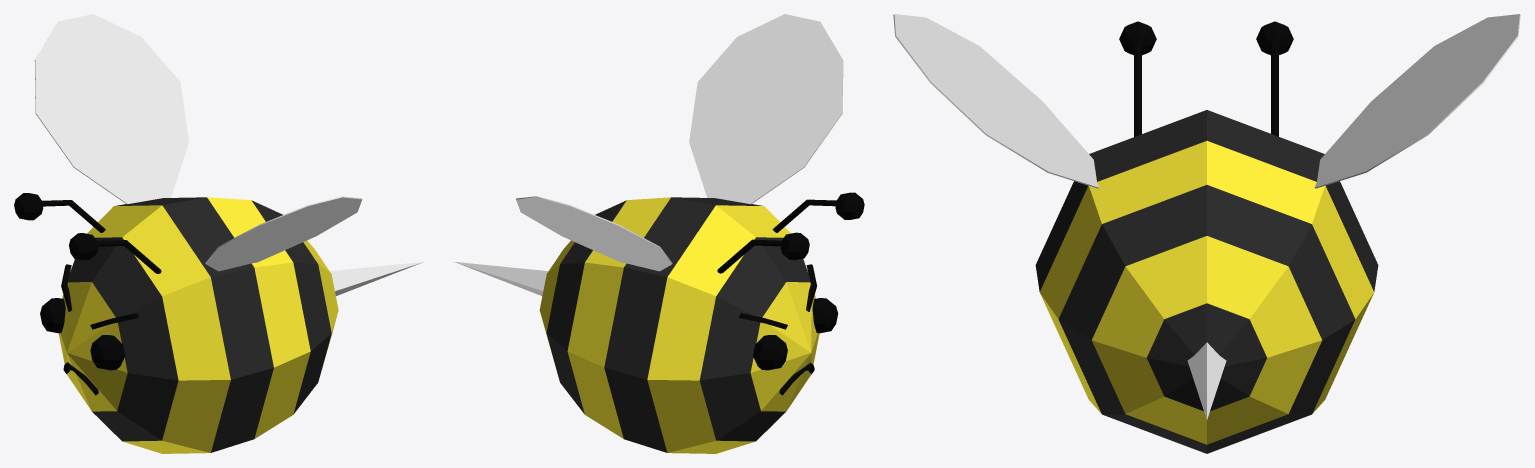
File: bee.fbx
The picture shows the model from 3 angles, left to right: view 1: azimuth 30°, elevation 25°; view 2: azimuth 150°, elevation 25°; view 3: azimuth 270°, elevation 25°; orthographic projection. The views are drawn at different scales.
Parts seen in each view (by area): view 1: bee; view 2: bee; view 3: bee.
Part boxes in pixels (x1,y1,x2,y2): bee: [14, 14, 424, 453]; bee: [454, 14, 864, 453]; bee: [893, 14, 1520, 453].
Size of the model in its own units: 214 by 180 by 244.
